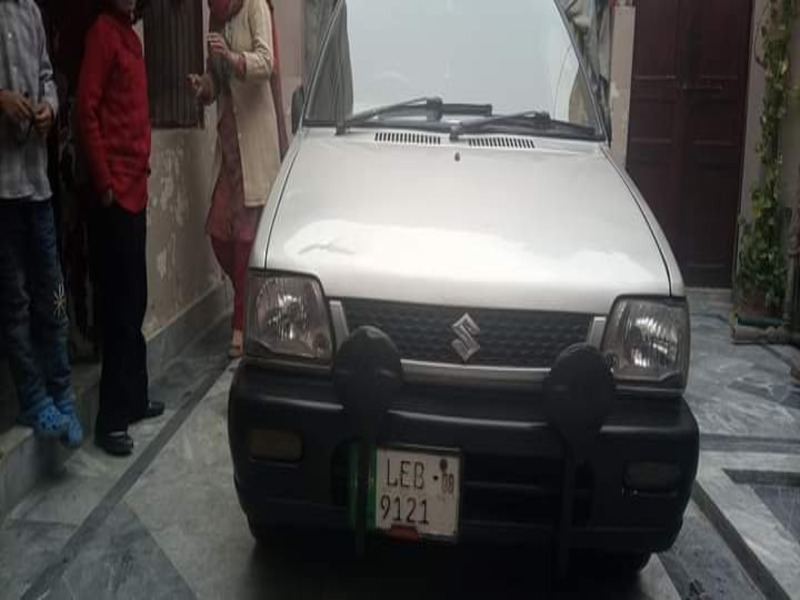License Plate: (348, 441, 467, 549)
